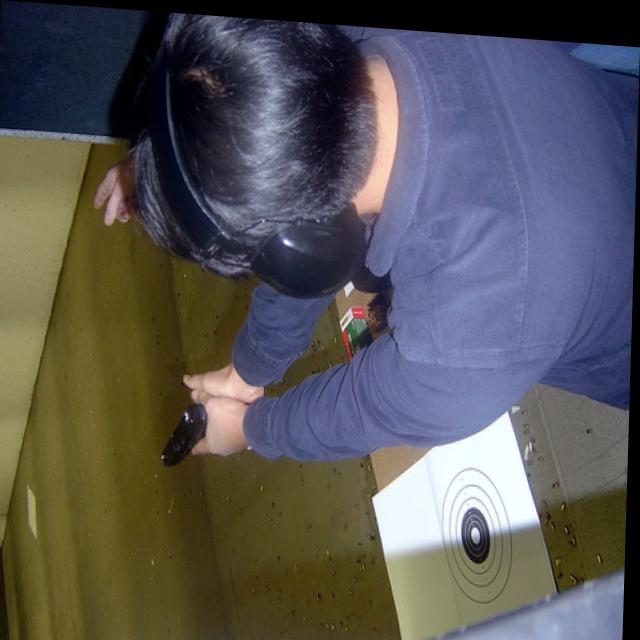handgun: (157, 396, 213, 467)
